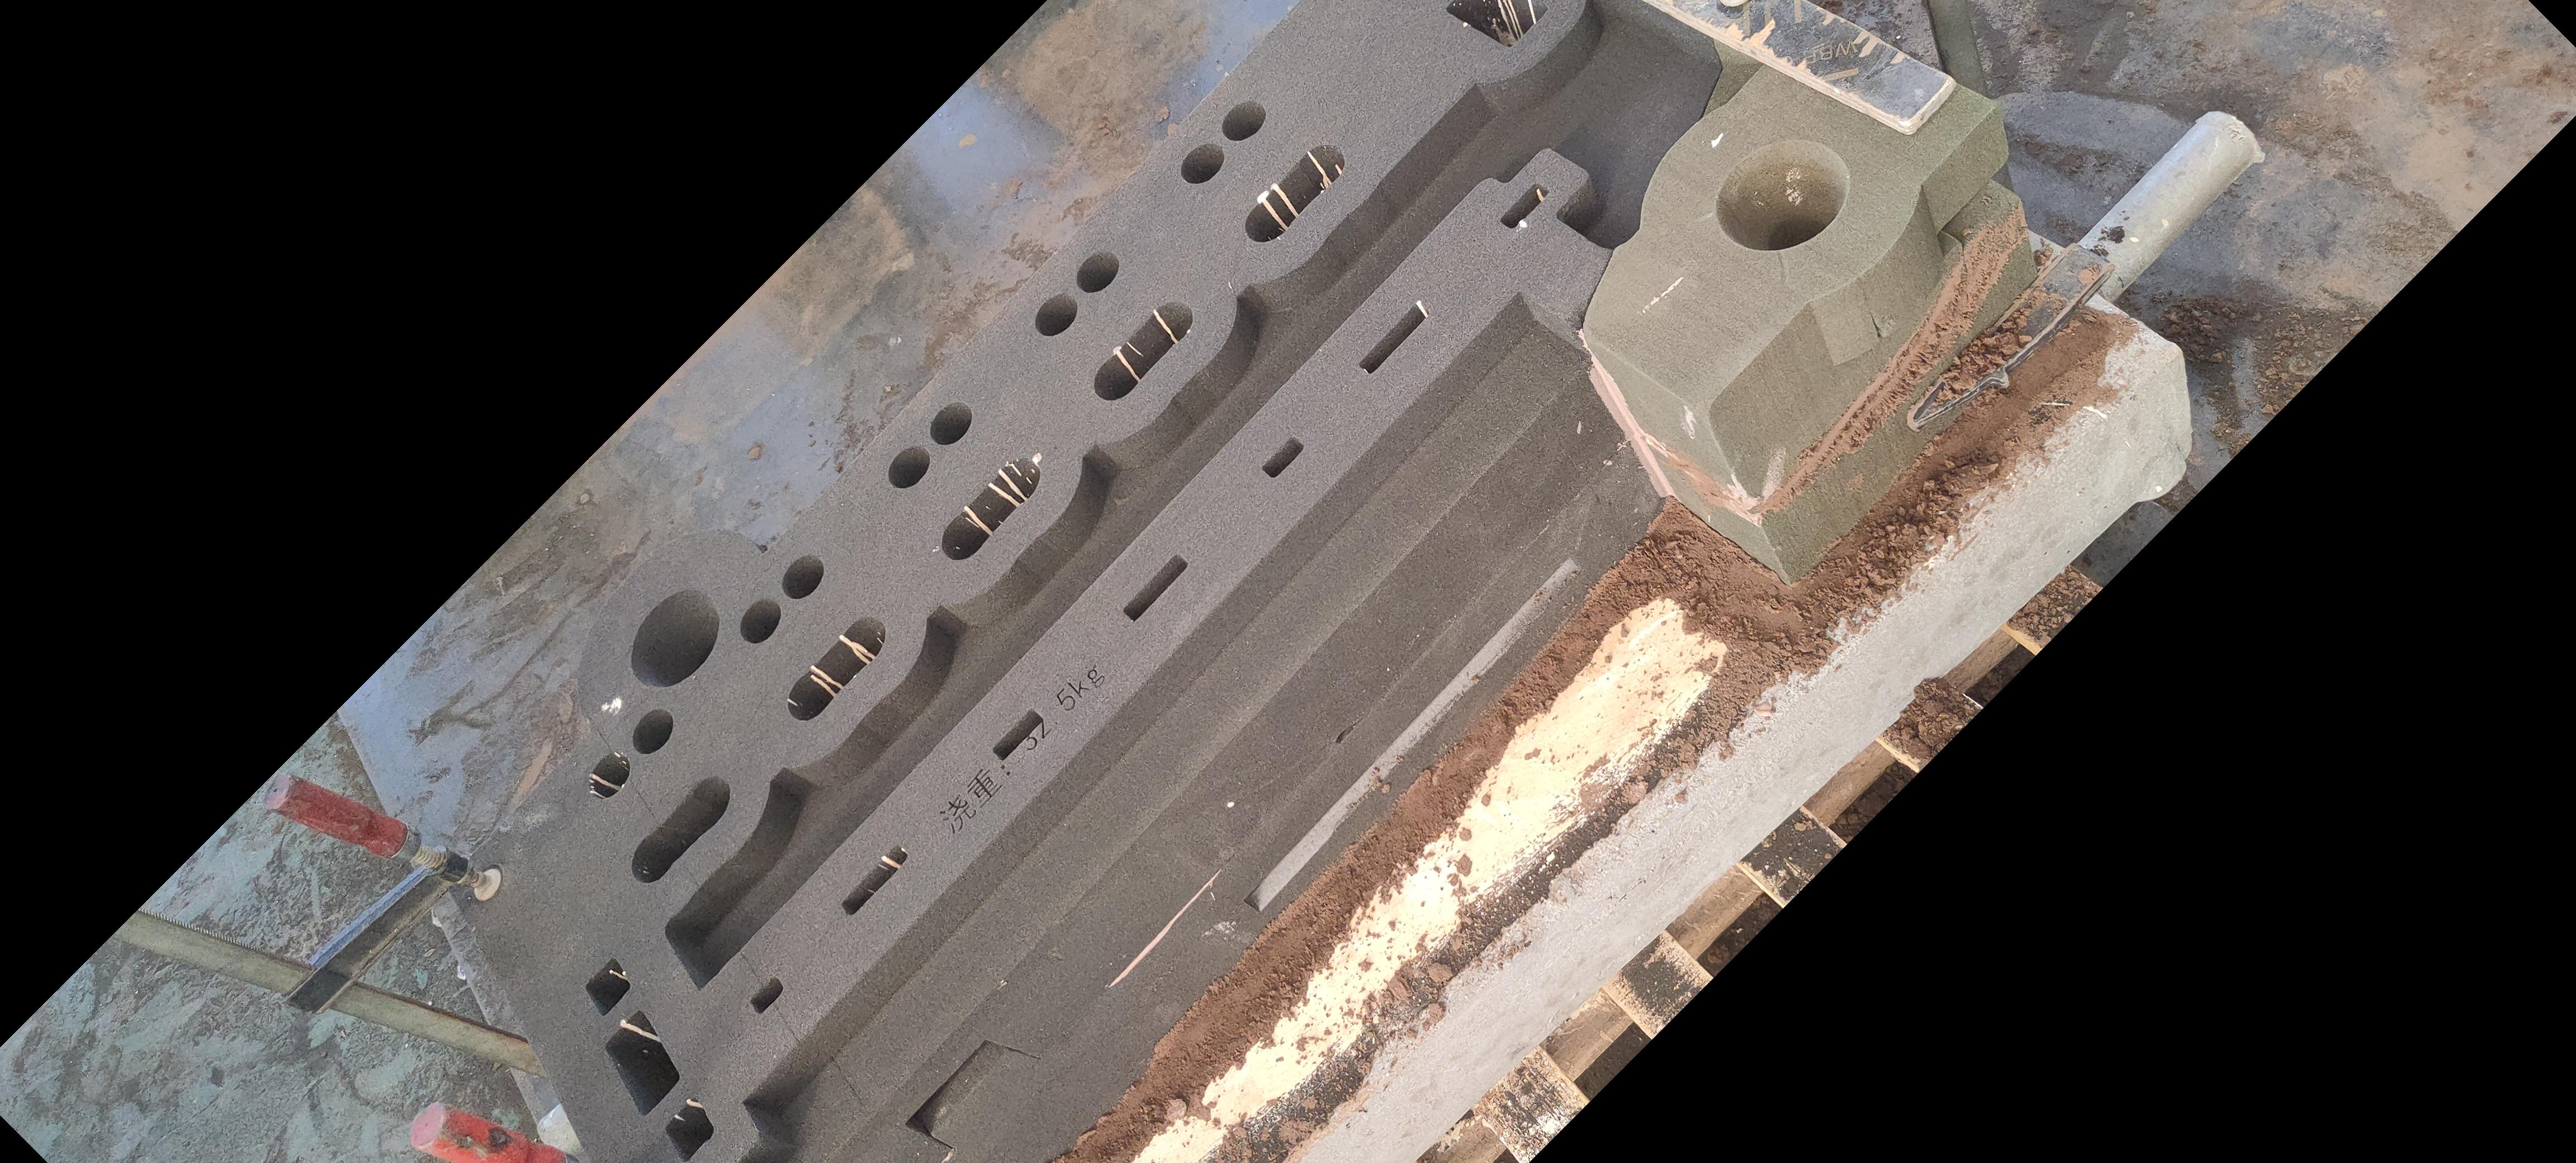pouring hole: (1712, 138, 1851, 251), (629, 590, 721, 687)
